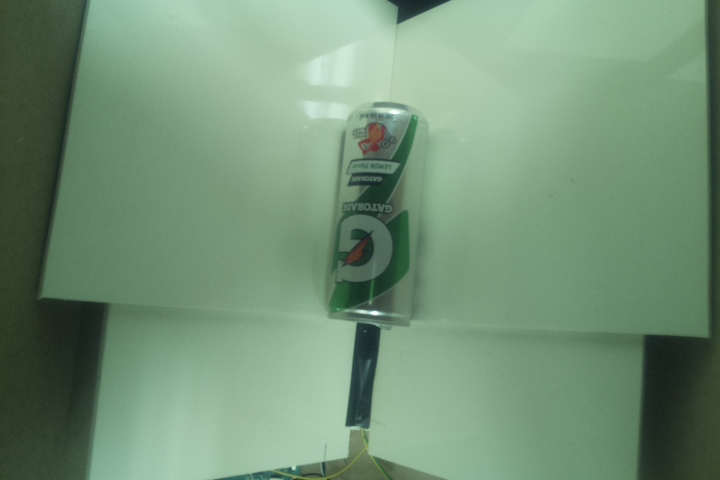can: (318, 100, 429, 332)
